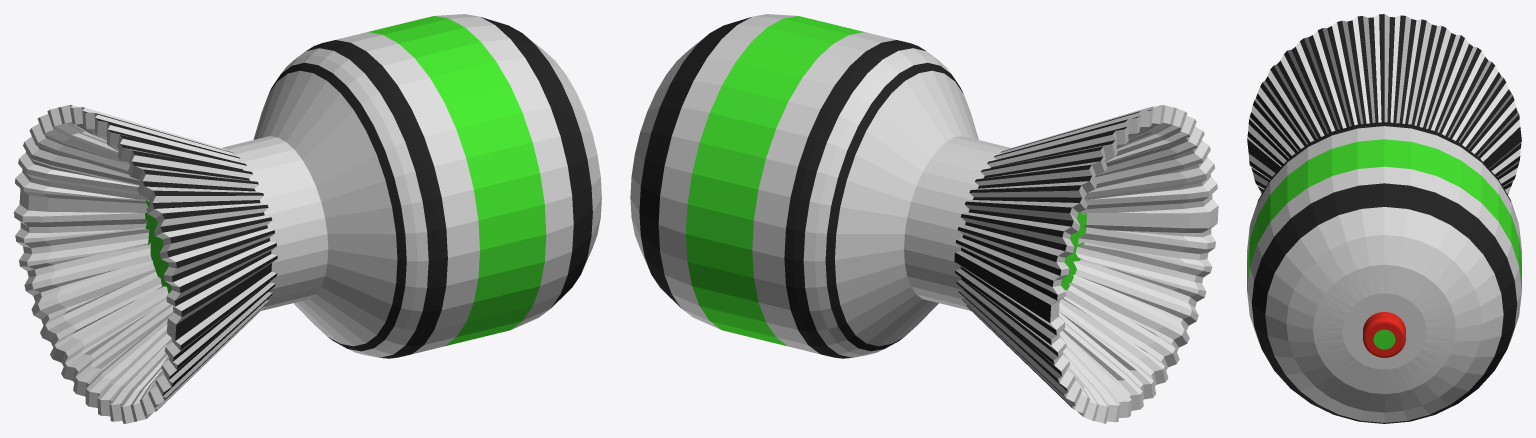
The model's file is PaintBomb.fbx.
The picture shows the model from 3 angles, left to right: view 1: azimuth 30°, elevation 25°; view 2: azimuth 150°, elevation 25°; view 3: azimuth 270°, elevation 25°; orthographic projection. The views are drawn at different scales.
Visible parts, largest first — view 1: Cylinder; view 2: Cylinder; view 3: Cylinder.
Boxes of the visible parts, box(x1,y1,x2,y2) form: Cylinder: box(14, 14, 601, 423); Cylinder: box(630, 14, 1218, 423); Cylinder: box(1247, 14, 1521, 423).
Size of the model in its own units: 38.49 by 66.63 by 38.49.
